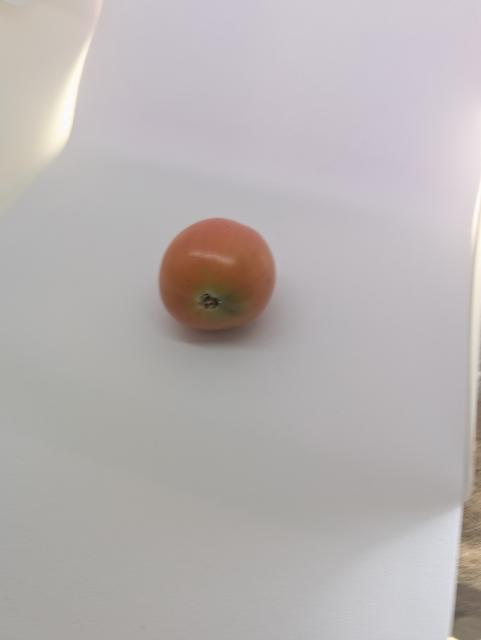turning: (152, 202, 282, 333)
